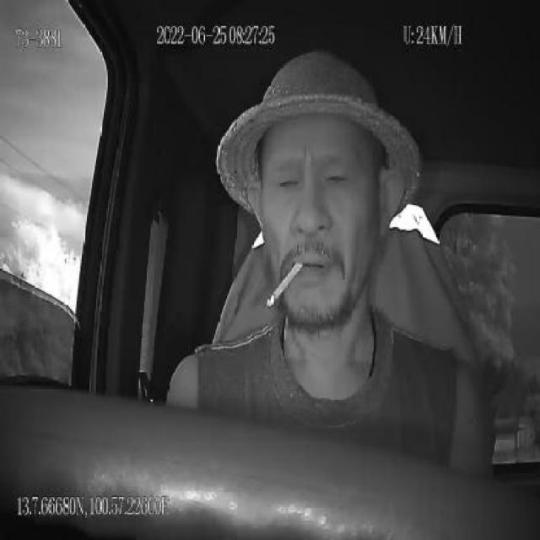smoking: (264, 256, 305, 311)
